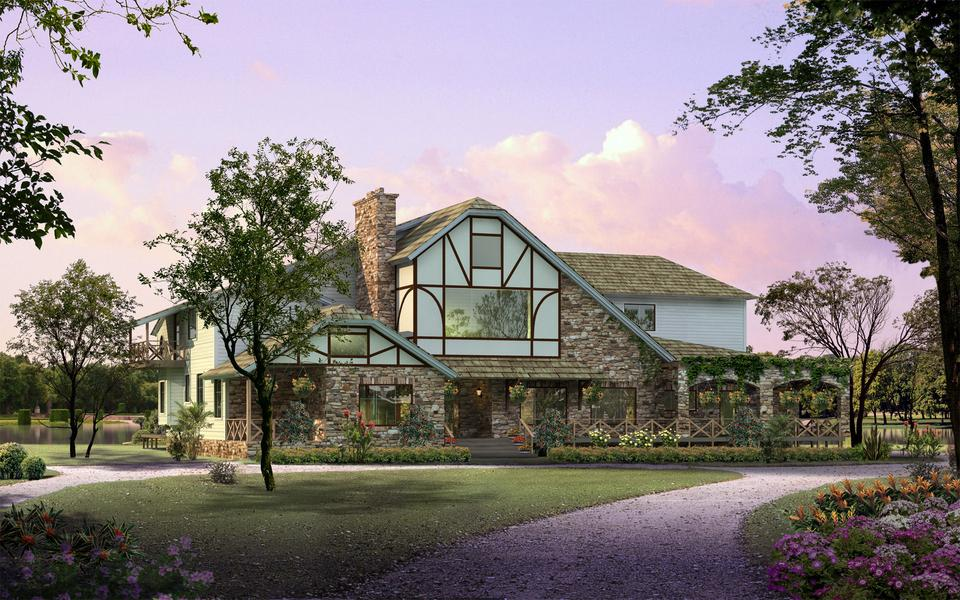buildings: (222, 181, 738, 425), (303, 178, 554, 411)
